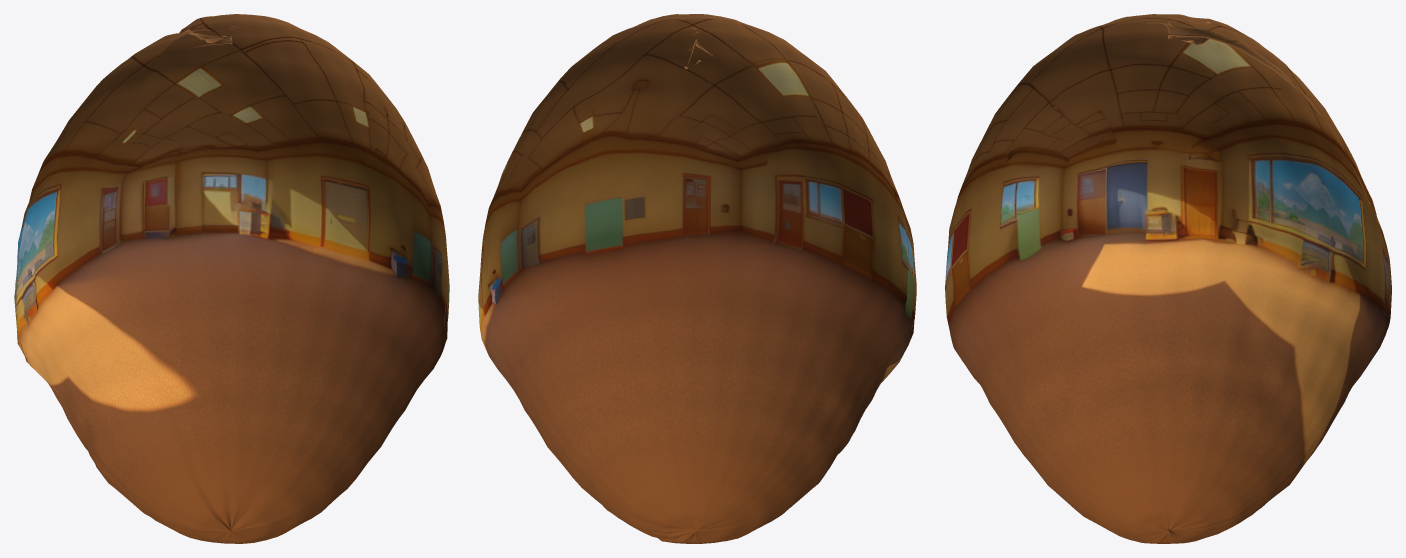
File: environment.glb
The picture shows the model from 3 angles, left to right: view 1: azimuth 30°, elevation 25°; view 2: azimuth 150°, elevation 25°; view 3: azimuth 270°, elevation 25°; orthographic projection.
Parts seen in each view (by area): view 1: Sphere; view 2: Sphere; view 3: Sphere.
Part boxes in pixels (x1,y1,x2,y2): Sphere: (14, 14, 449, 543); Sphere: (478, 14, 916, 543); Sphere: (945, 14, 1391, 543).
Bounding box in the file's own units: 8.81 × 11.21 × 8.85.
Materials: 1 (1 with a texture image).
